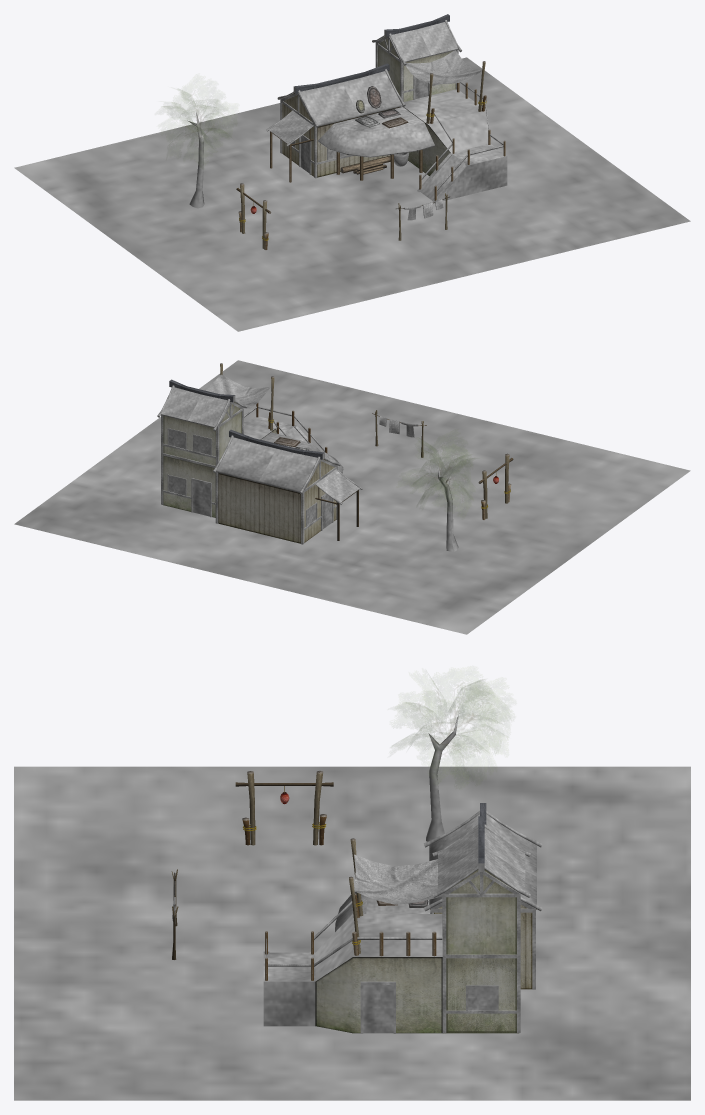
The model's file is testScene.obj.
3 renders of one model, top to bottom at view 1: azimuth 30°, elevation 25°; view 2: azimuth 150°, elevation 25°; view 3: azimuth 270°, elevation 25°, orthographic. The views are drawn at different scales.
Visible parts, largest first — view 1: Plane01.001_网格.001, Plane01.002_网格.002, Plane01.004_网格.004, Plane01_网格; view 2: Plane01.001_网格.001, Plane01.002_网格.002, Plane01_网格, Plane01.004_网格.004; view 3: Plane01.001_网格.001, Plane01.002_网格.002, Plane01_网格, Plane01.004_网格.004.
Part boxes in pixels (left/top/right/bottom): Plane01.001_网格.001: left=14, top=20, right=690, bottom=331; Plane01.002_网格.002: left=236, top=14, right=505, bottom=249; Plane01.004_网格.004: left=405, top=50, right=481, bottom=84; Plane01_网格: left=163, top=89, right=229, bottom=147; Plane01.001_网格.001: left=14, top=360, right=690, bottom=634; Plane01.002_网格.002: left=163, top=363, right=513, bottom=543; Plane01_网格: left=412, top=440, right=473, bottom=502; Plane01.004_网格.004: left=206, top=374, right=270, bottom=409; Plane01.001_网格.001: left=14, top=713, right=690, bottom=1100; Plane01.002_网格.002: left=171, top=771, right=536, bottom=1033; Plane01_网格: left=393, top=679, right=510, bottom=777; Plane01.004_网格.004: left=354, top=854, right=442, bottom=904.
Bounding box in the file's own units: 1.51 × 0.3788 × 1.3.
5 materials, 5 textured.
